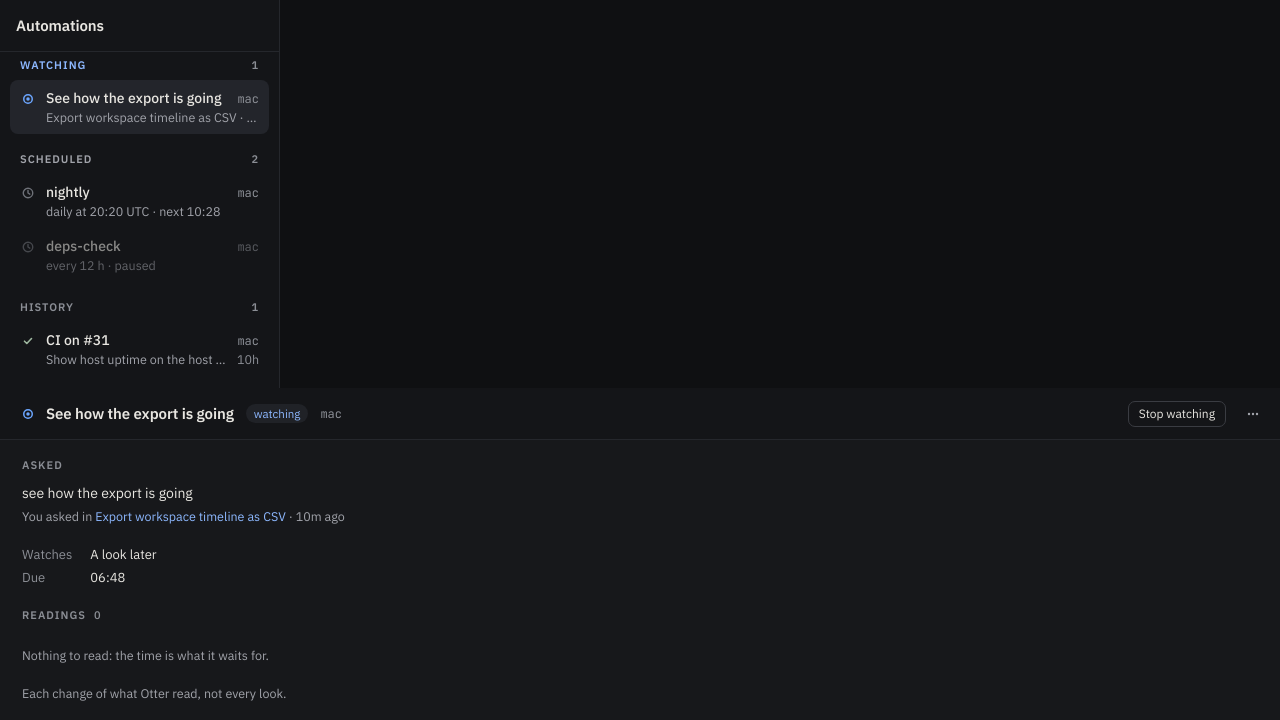
Automations view › stops a watch, and deletes one only once you confirm
Click the button "Stop watching": (1177, 414) [1128, 400, 1226, 426]
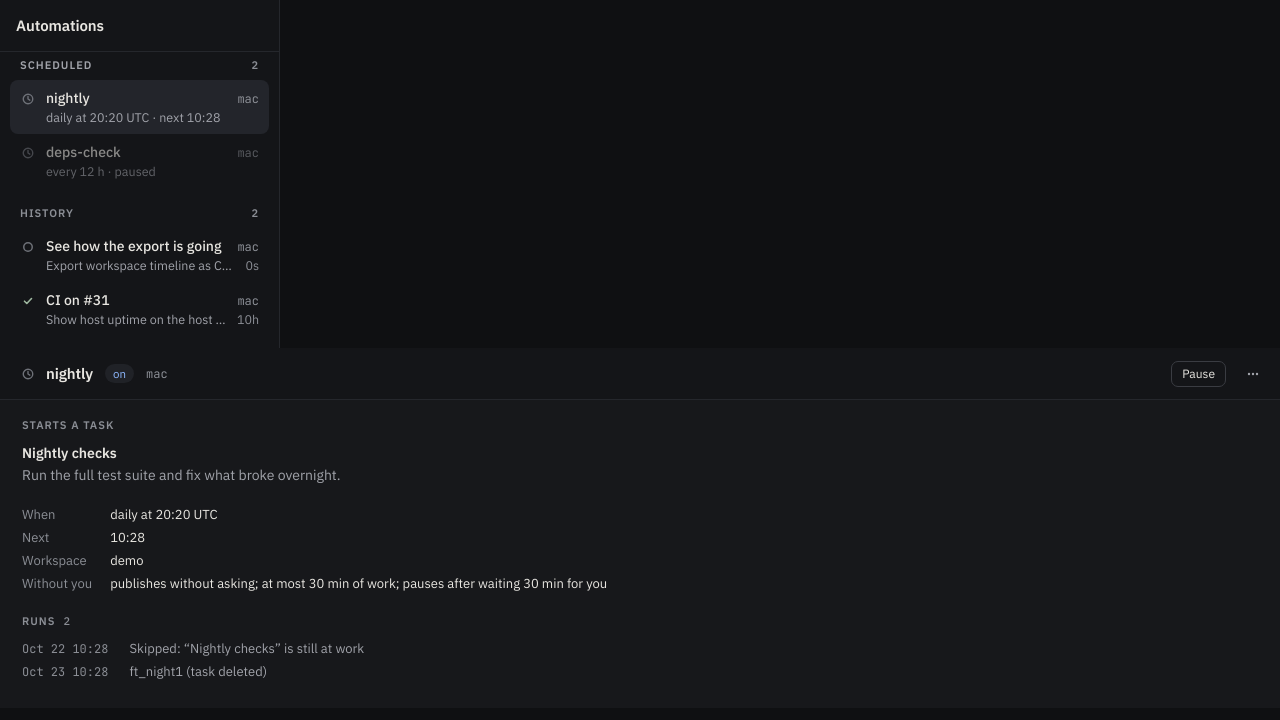
Click the list item "CI on #31 mac Show host uptime on the host page · passed 10h": (140, 309) [10, 282, 269, 336]
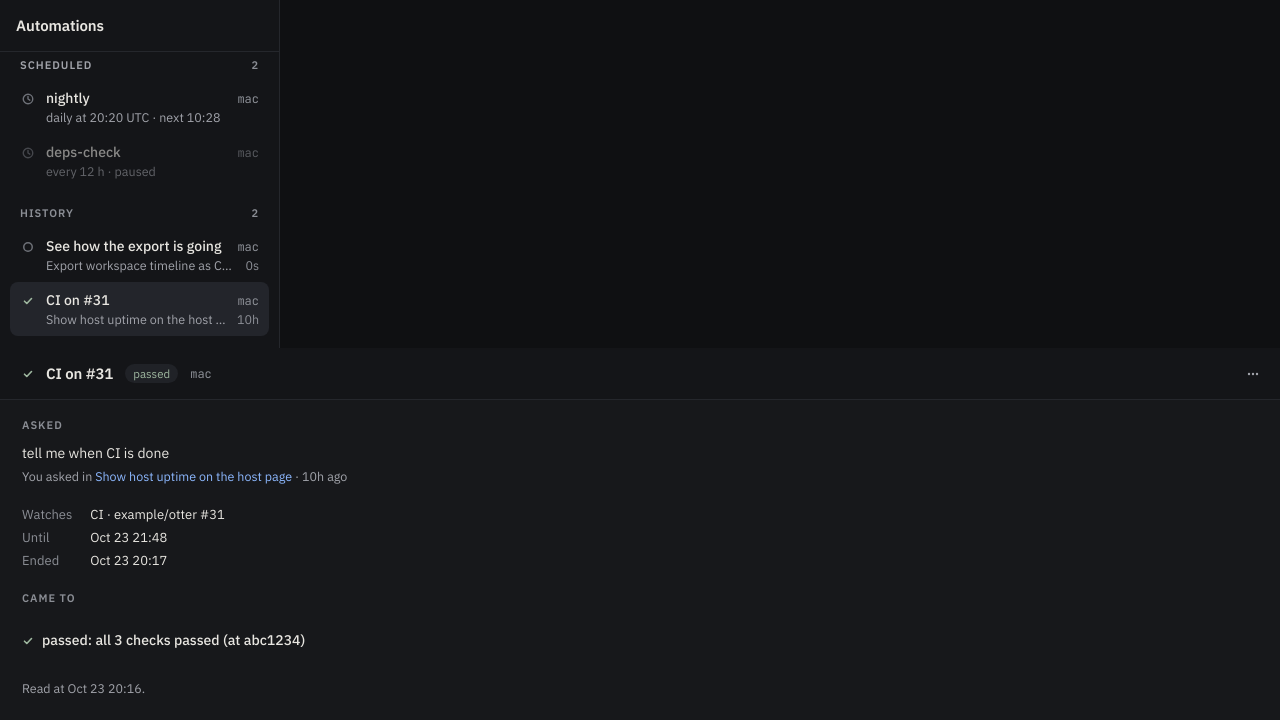
Click the button named "More actions": (1253, 374) [1238, 358, 1268, 388]
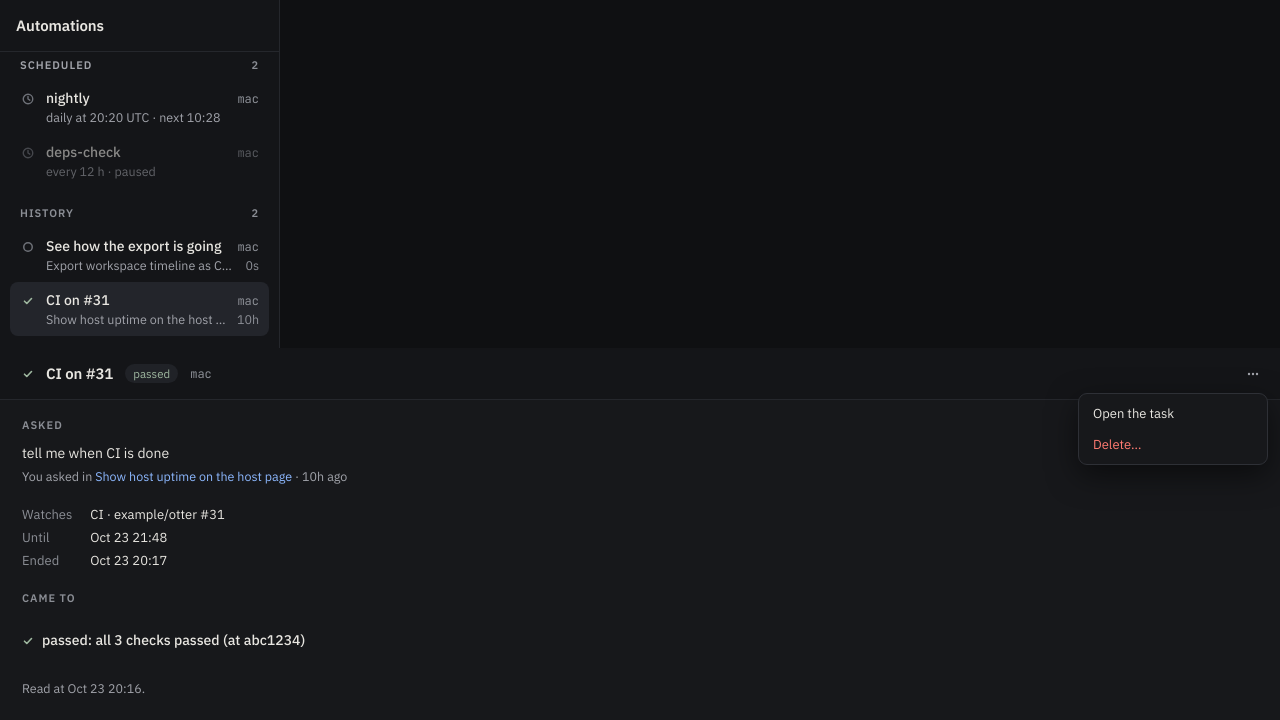
Click the menu item "Delete…": (1173, 444) [1083, 428, 1263, 460]
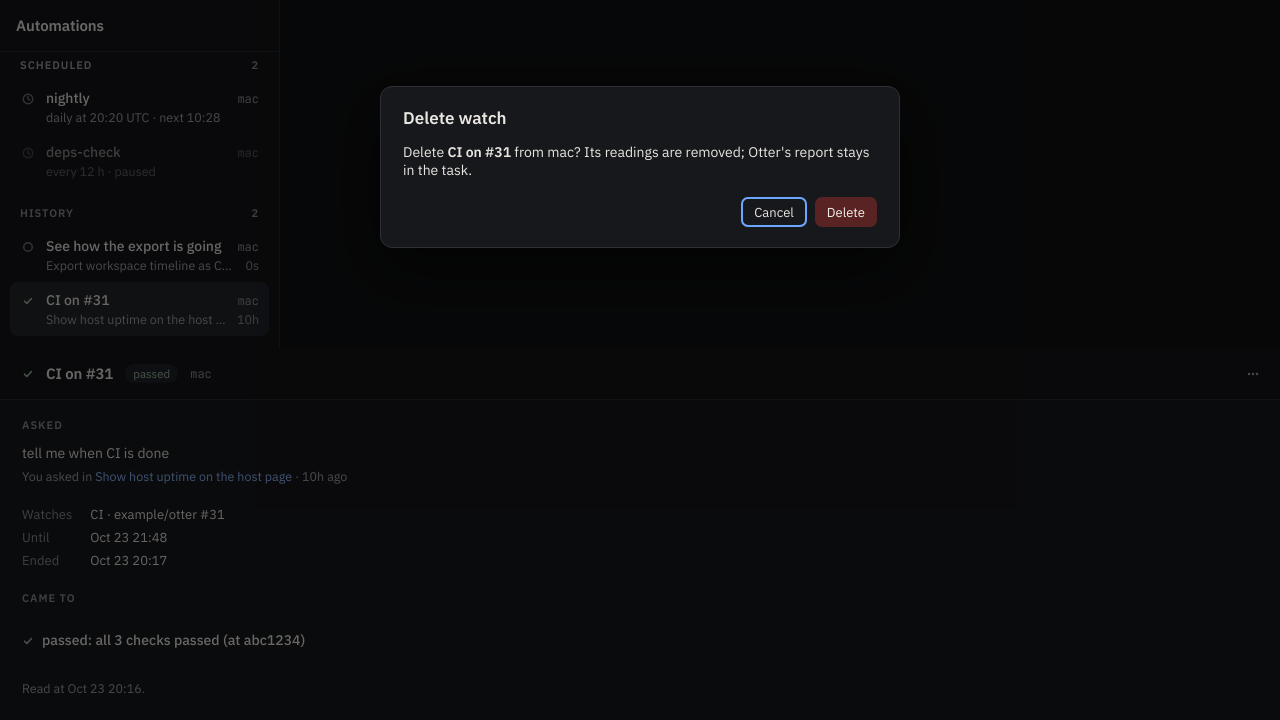
Result: the dialog shows "Delete CI on #31 from mac?" at [380, 86, 900, 248]
Click the button "Delete": (846, 212) [815, 197, 877, 227]
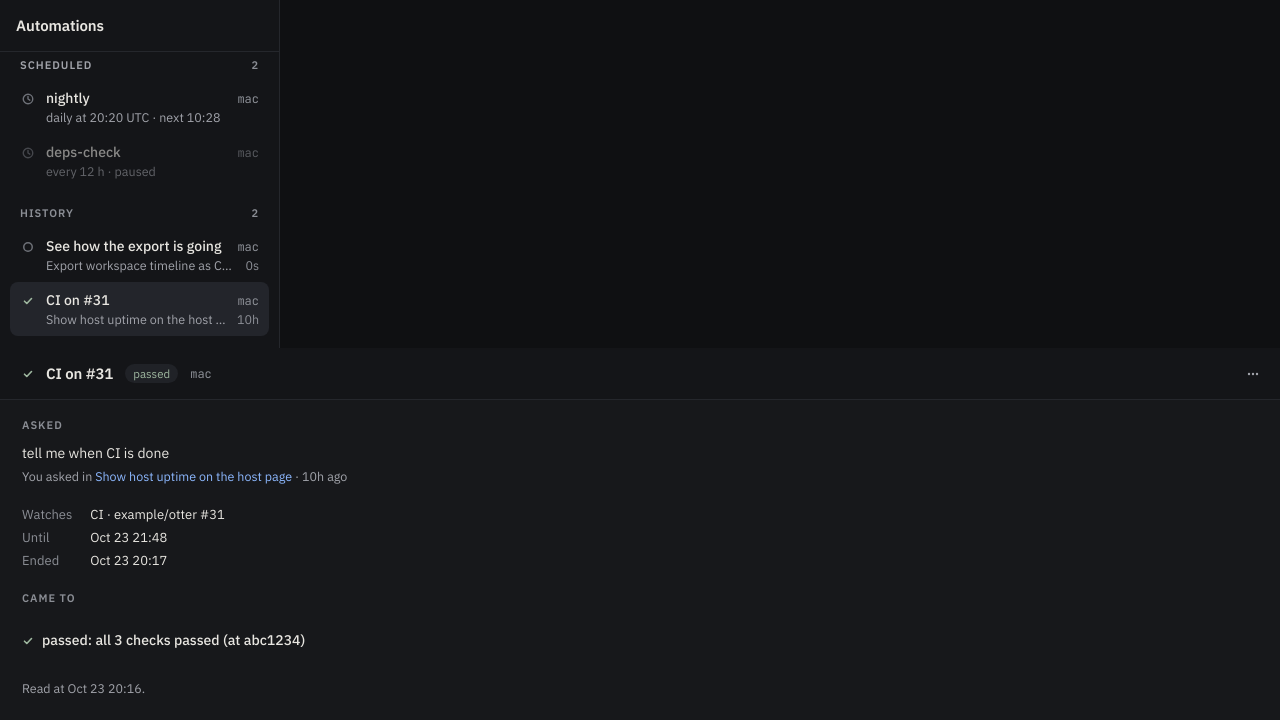
Result: the dialog is gone
